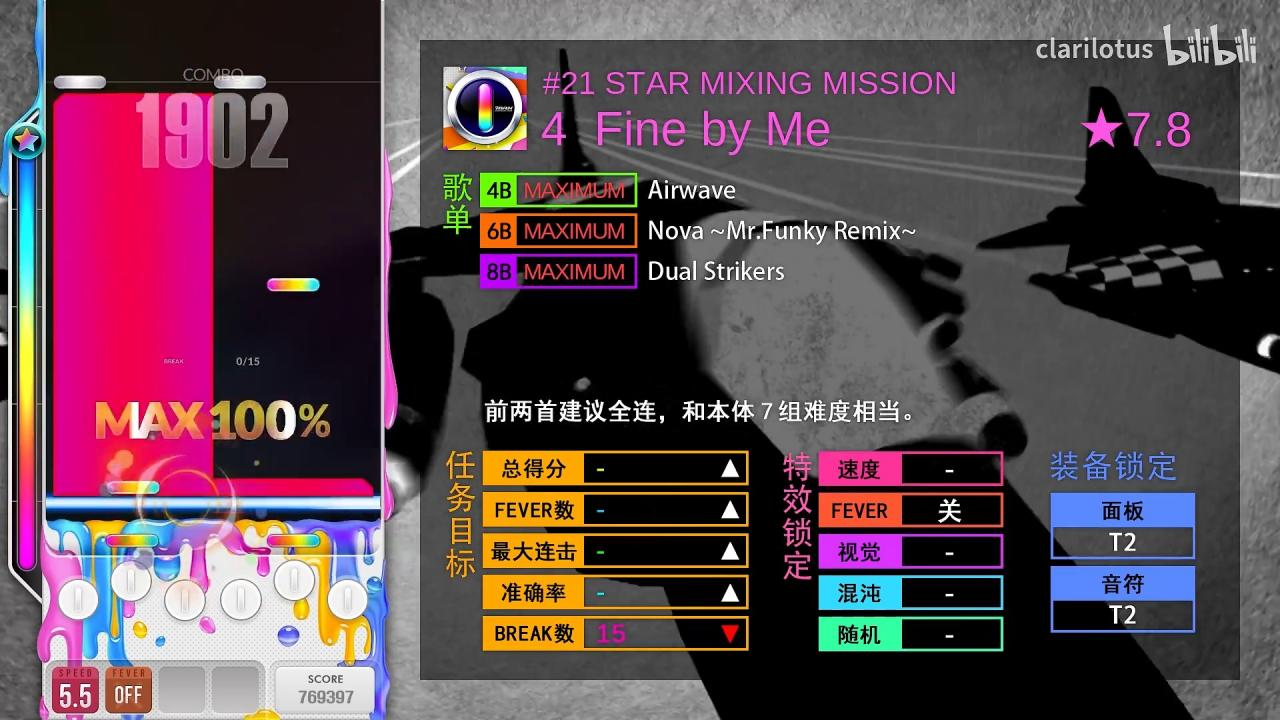note: (106, 480, 160, 495), (54, 75, 106, 89), (267, 278, 320, 291), (214, 76, 267, 88)
xend: (52, 93, 214, 110)
xnote: (214, 478, 373, 497)
